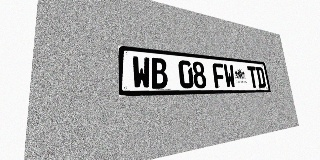0: (178, 60, 194, 88)
8: (192, 61, 207, 88)
B: (150, 57, 168, 89)
D: (255, 67, 266, 88)
F: (212, 63, 226, 88)
T: (247, 66, 259, 88)
W: (132, 56, 151, 89), (223, 64, 236, 88)
